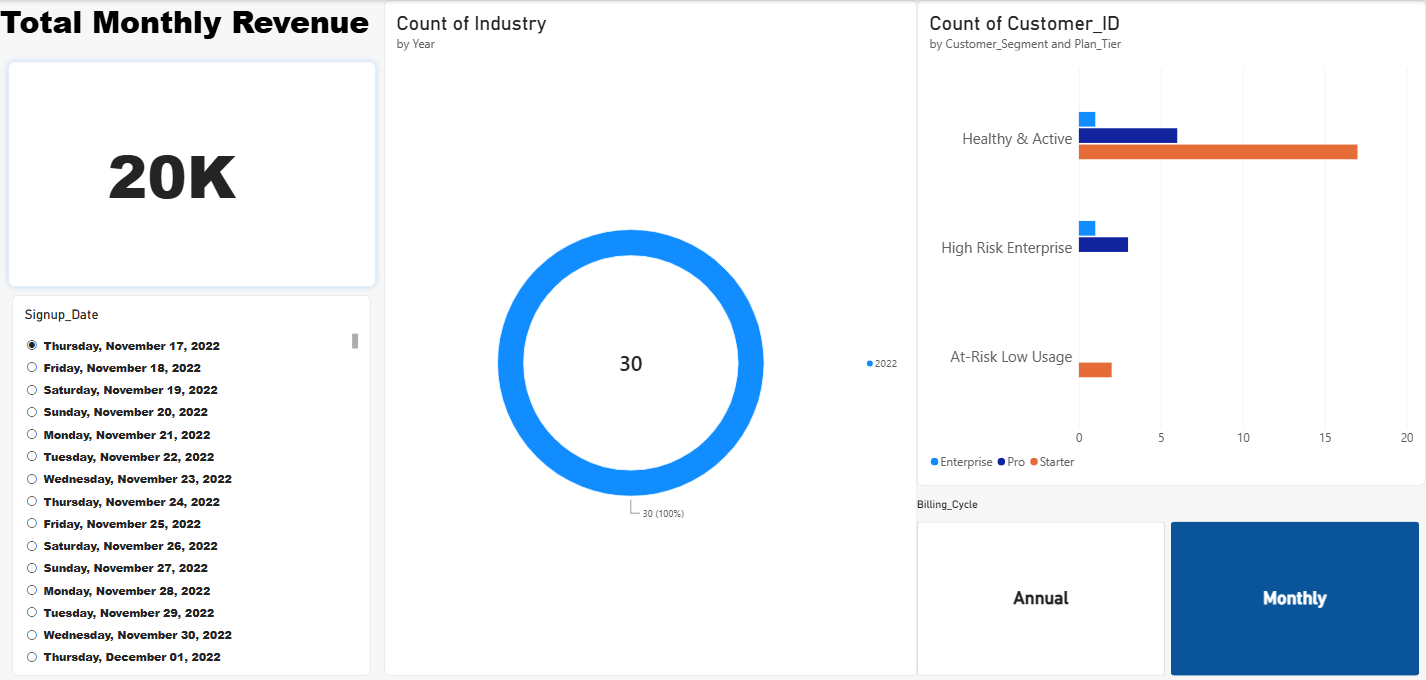

The dashboard page shown, as its layout file describes it:
{"tool":"powerbi","page":{"name":"Page 1","canvas":[1920,1080],"ordinal":0},"visuals":[{"type":"cardVisual","title":"Total Monthly Revenue","fields":{"Data":["Sum(final_dashboard_ready.Monthly_Recurring_Revenue)"]},"box":[0,0,517.1,397.3],"z":0},{"type":"clusteredBarChart","fields":{"Category":["final_dashboard_ready.Customer_Segment"],"Series":["final_dashboard_ready.Plan_Tier"],"Y":["CountNonNull(final_dashboard_ready.Customer_ID)"]},"box":[1234.9,0,685.4,654.5],"z":1000},{"type":"donutChart","fields":{"Category":["final_dashboard_ready.Signup_Date.Variation.Date Hierarchy.Year","final_dashboard_ready.Signup_Date.Variation.Date Hierarchy.Quarter","final_dashboard_ready.Signup_Date.Variation.Date Hierarchy.Month","final_dashboard_ready.Signup_Date.Variation.Date Hierarchy.Day","final_dashboard_ready.Industry"],"Y":["CountNonNull(final_dashboard_ready.Industry)"]},"box":[517.1,0,717.8,910.3],"z":2000},{"type":"advancedSlicerVisual","fields":{"Values":["final_dashboard_ready.Billing_Cycle"]},"box":[1234.9,670.6,676,239.7],"z":2001},{"type":"listSlicer","fields":{"Values":["final_dashboard_ready.Signup_Date"]},"box":[16.2,397.3,483.4,513.1],"z":2002}]}

Visuals, with their boxes on the page's 1920x1080 design canvas (x1, y1, x2, y2). These are canvas units, not pixel positions in the 1426x680 screenshot, which may show the page scaled, cropped or inside an application window:
"Total Monthly Revenue" cardVisual: <box>0,0,517,397</box>
clusteredBarChart - final_dashboard_ready.Customer_Segment x final_dashboard_ready.Plan_Tier: <box>1235,0,1920,654</box>
donutChart - final_dashboard_ready.Signup_Date.Variation.Date Hierarchy.Year x final_dashboard_ready.Signup_Date.Variation.Date Hierarchy.Quarter: <box>517,0,1235,910</box>
advancedSlicerVisual - final_dashboard_ready.Billing_Cycle: <box>1235,671,1911,910</box>
listSlicer - final_dashboard_ready.Signup_Date: <box>16,397,500,910</box>
